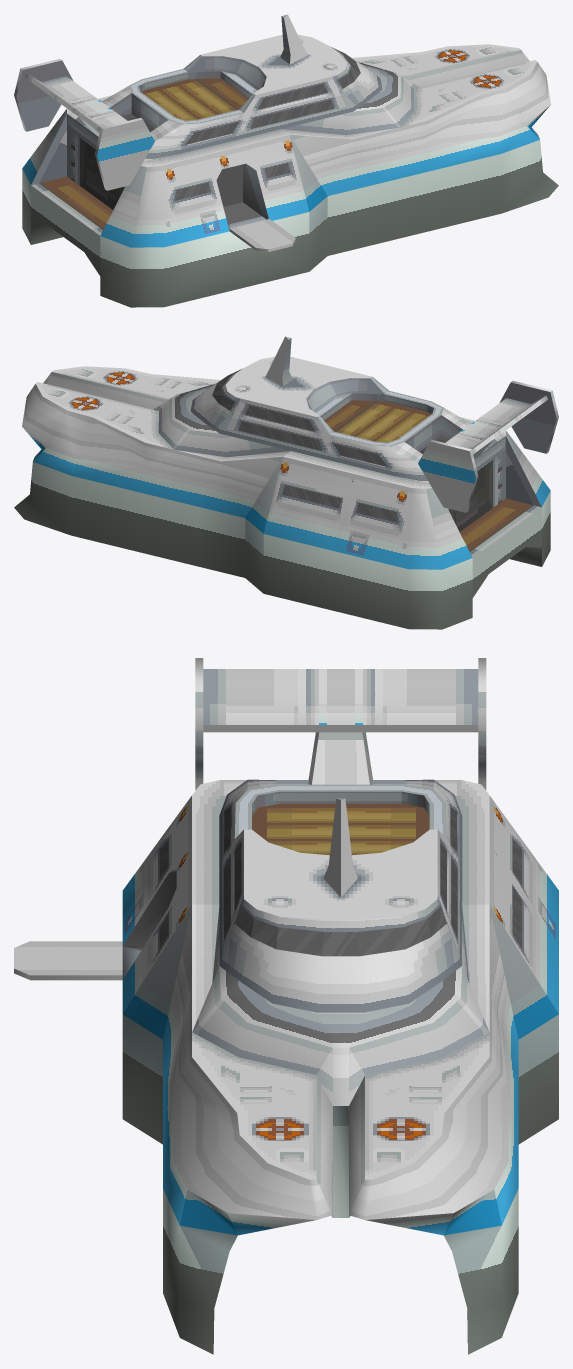
The model's file is aqua_mn4_png.glb.
The picture shows the model from 3 angles, top to bottom: view 1: azimuth 30°, elevation 25°; view 2: azimuth 150°, elevation 25°; view 3: azimuth 270°, elevation 25°; orthographic projection. The views are drawn at different scales.
Visible parts, largest first — view 1: aqua_mn4_png; view 2: aqua_mn4_png; view 3: aqua_mn4_png.
Boxes of the visible parts, x1=… form: aqua_mn4_png: x1=14, y1=14, x2=558, y2=307; aqua_mn4_png: x1=14, y1=336, x2=558, y2=629; aqua_mn4_png: x1=14, y1=658, x2=558, y2=1354.
Bounding box in the file's own units: 242 × 96.61 × 135.
7 materials, 7 textured.
